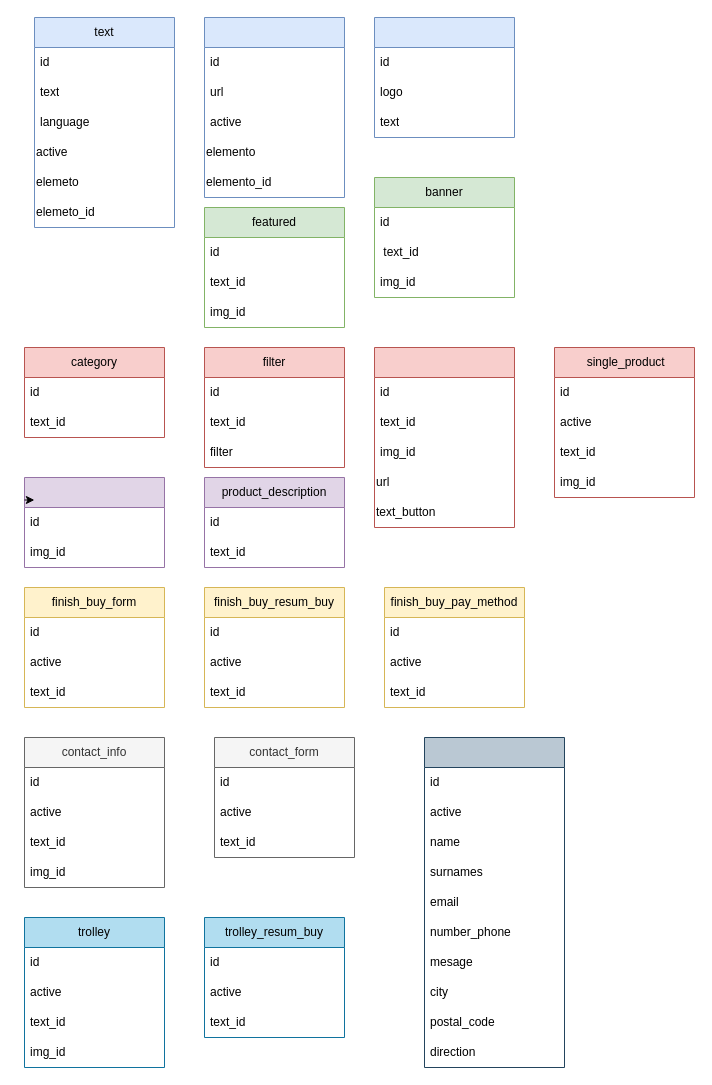
This 712x1085 diagram has some shape labels left out. Here are the shapes that lost their labels. From the top down, the box of each, then its label:
(374, 16, 514, 138): menu
(204, 16, 344, 198): image
(374, 346, 514, 528): product_grid
(24, 476, 164, 568): product_galery
(424, 736, 564, 1068): client
